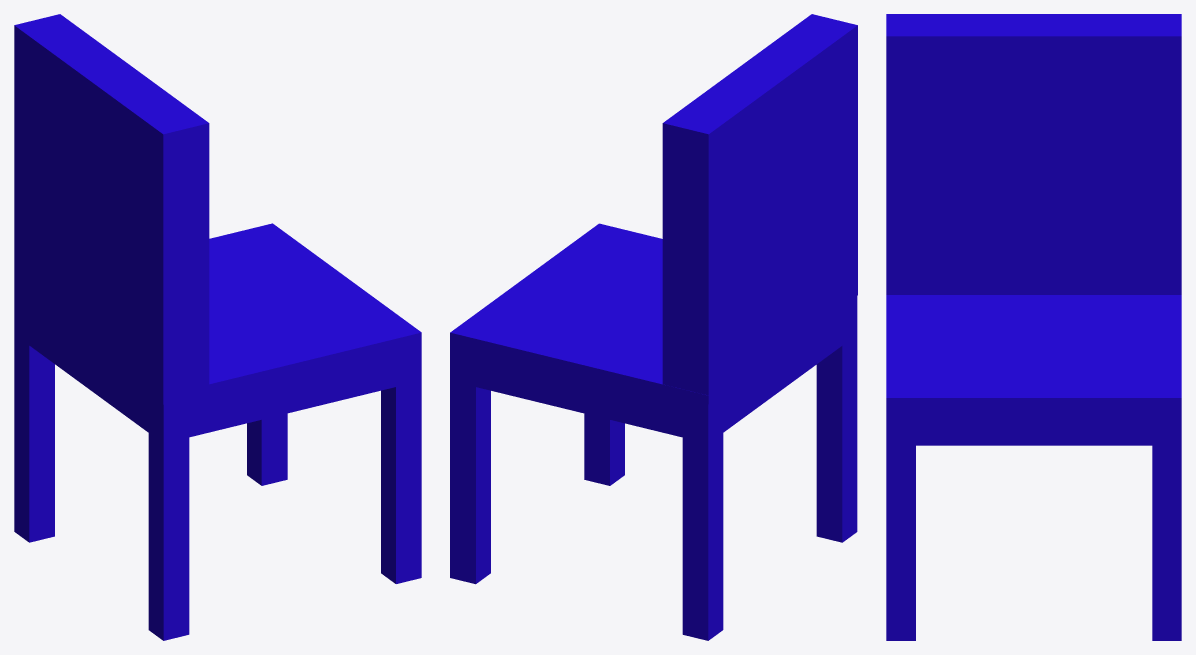
The model's file is Silla.fbx.
3 views of the same model, side by side, from view 1: azimuth 30°, elevation 25°; view 2: azimuth 150°, elevation 25°; view 3: azimuth 270°, elevation 25° (orthographic).
Parts seen in each view (by area): view 1: Cube.001; view 2: Cube.001; view 3: Cube.001.
Boxes of the visible parts, left/top/right/bottom form: Cube.001: left=14, top=14, right=421, bottom=640; Cube.001: left=450, top=14, right=857, bottom=640; Cube.001: left=886, top=14, right=1181, bottom=640.
Size of the model in its own units: 1006 by 1883 by 1005.
